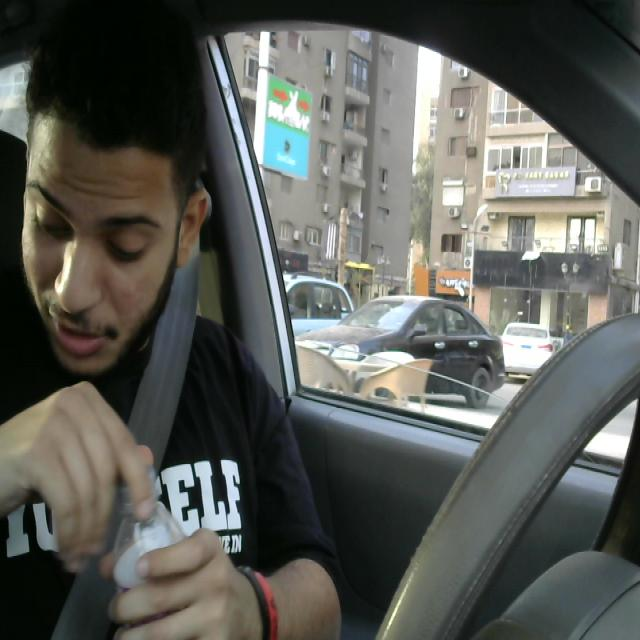drinking: (100, 455, 213, 640)
